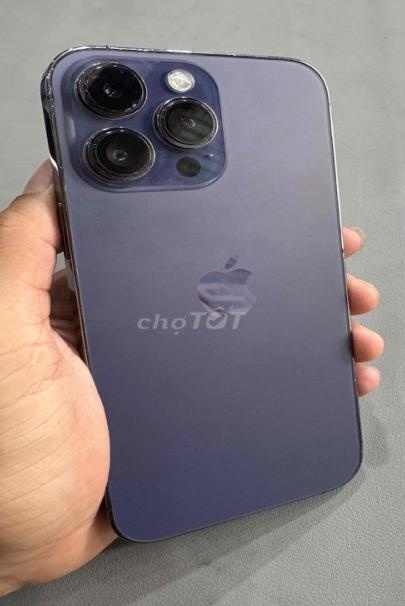scratch: (42, 62, 64, 109)
